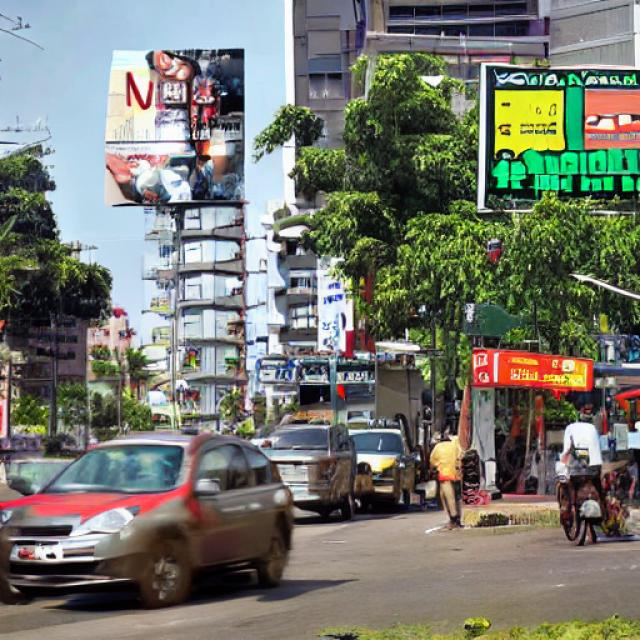Billboard: (477, 64, 640, 218), (100, 45, 249, 207)
